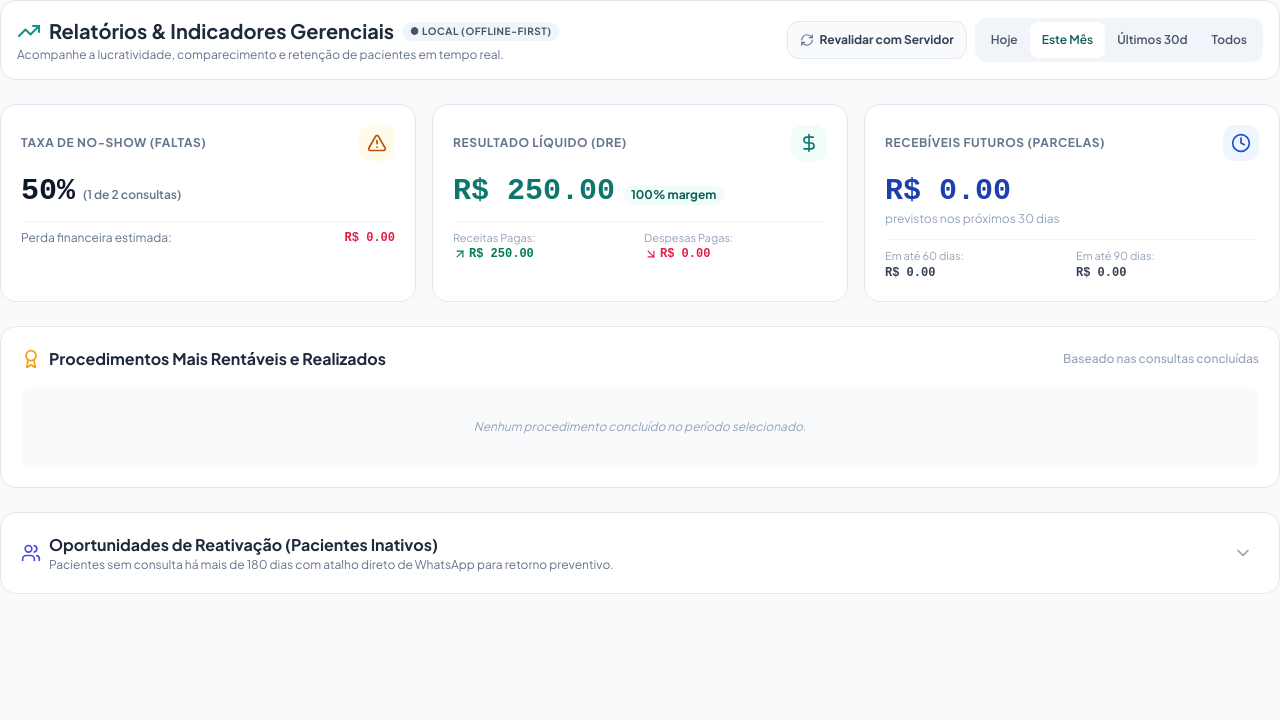
Test: Feature financeiro-frontend-relatorios — TDD Spec Anchor › AC-181: Visualização instantânea de métricas em cards verticais com revalidação do servidor @spec:AC-181
This screenshot has width=1280, height=720.
expect the text with test id "badge-report-sync-source" shows "Local (Offline-First)": met, box [410, 24, 551, 36]
Clica no botão de revalidar com servidor
Step 1. Click the button with test id "btn-revalidate-reports" → coordinates (877, 40), box [787, 21, 967, 59]
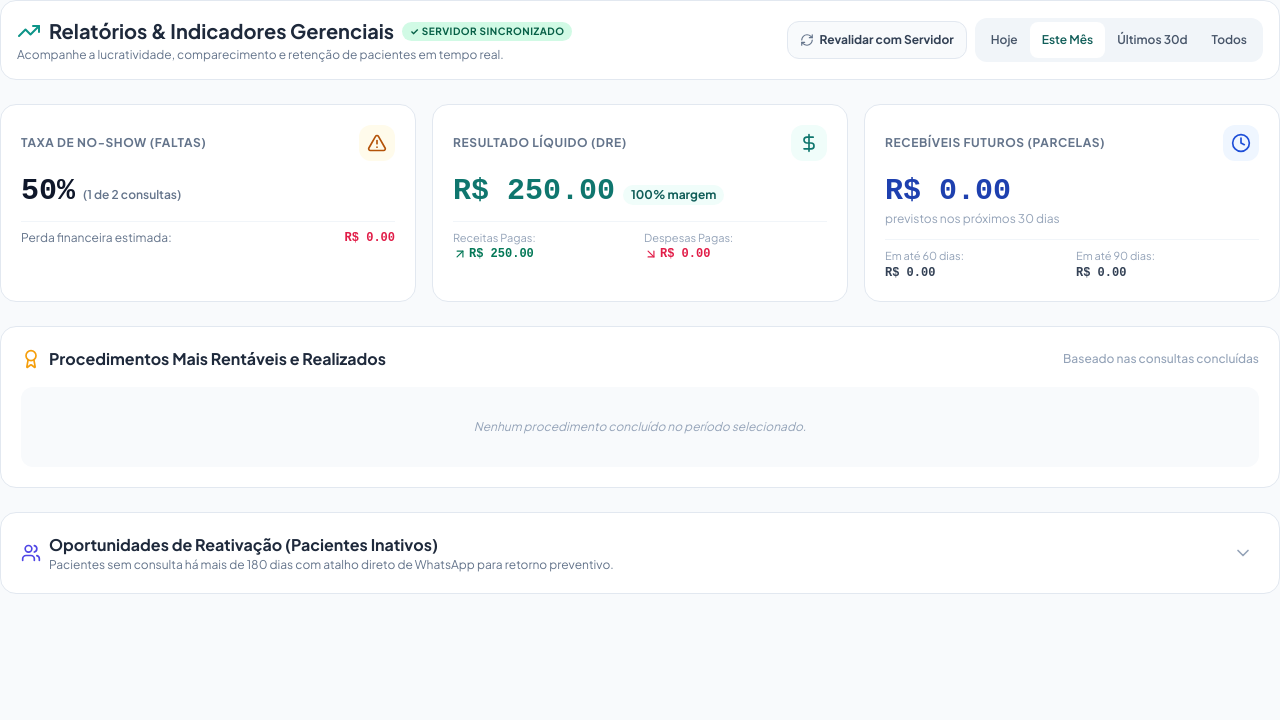
expect the text with test id "badge-report-sync-source" shows "Servidor Sincronizado": met, box [410, 24, 564, 36]
